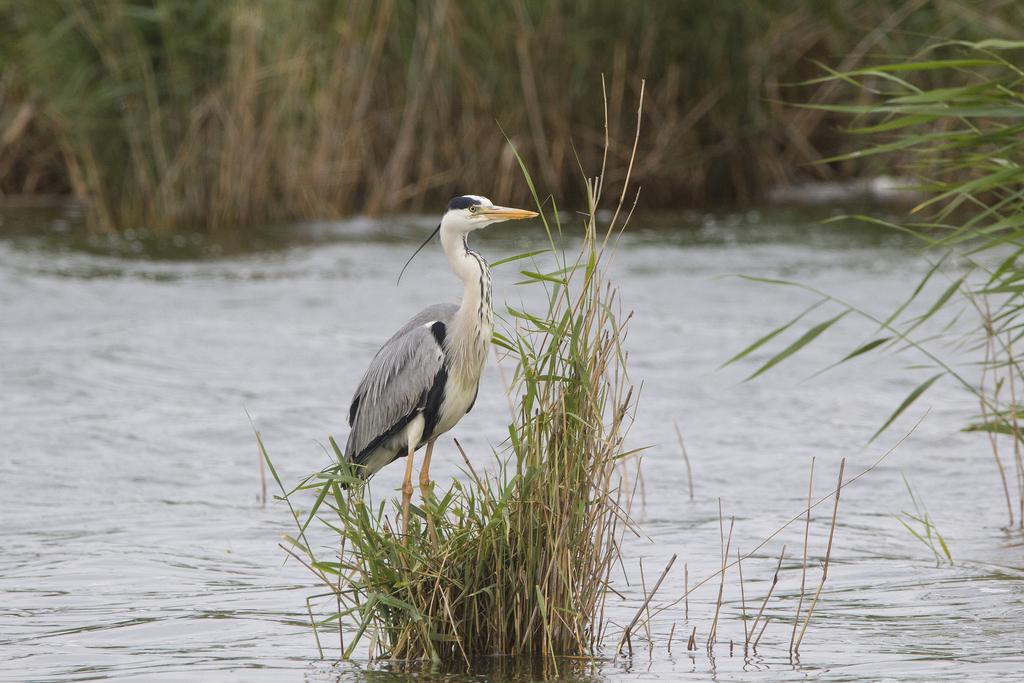heron: (336, 190, 542, 578)
